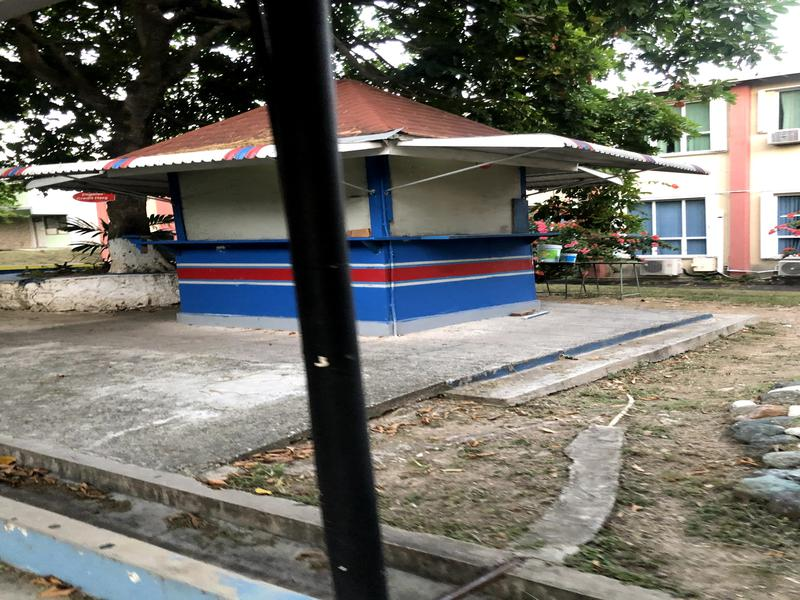18.0050609_-76.7496662_auntyjackie: (107, 68, 591, 343)
